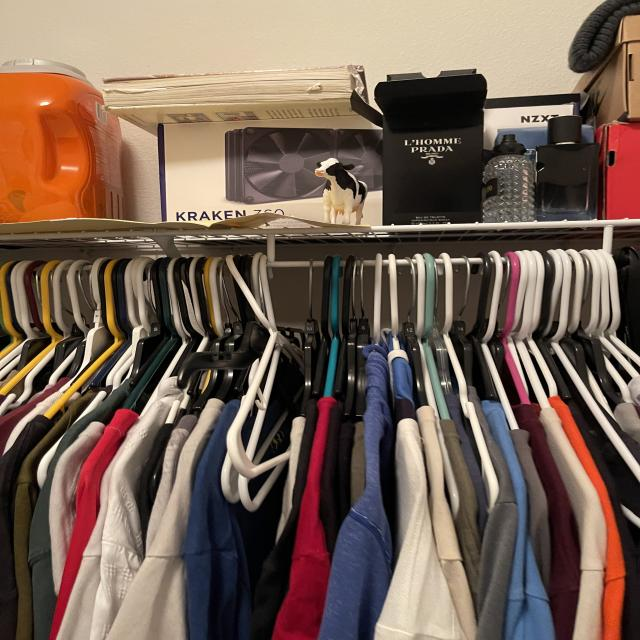cow: (314, 155, 370, 228)
